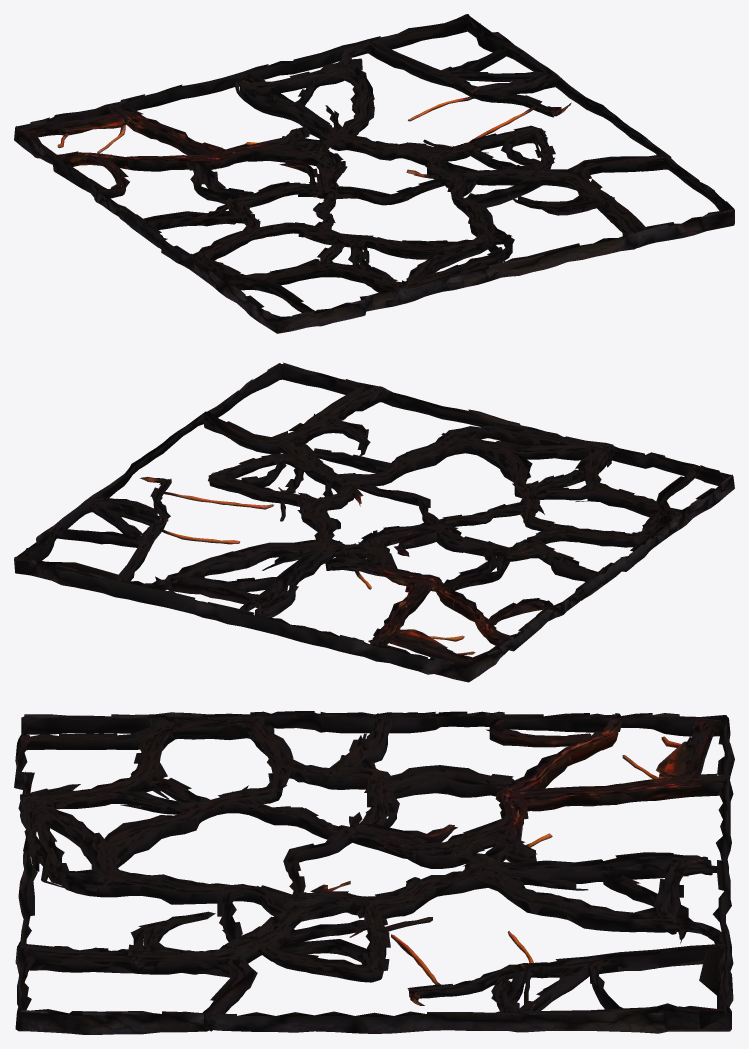
File: kit-floor.glb
3 renders of one model, top to bottom at view 1: azimuth 30°, elevation 25°; view 2: azimuth 150°, elevation 25°; view 3: azimuth 270°, elevation 25°, orthographic. The views are drawn at different scales.
Size of the model in its own units: 1.91 by 0.0626 by 1.89.
1 material, 1 textured.
